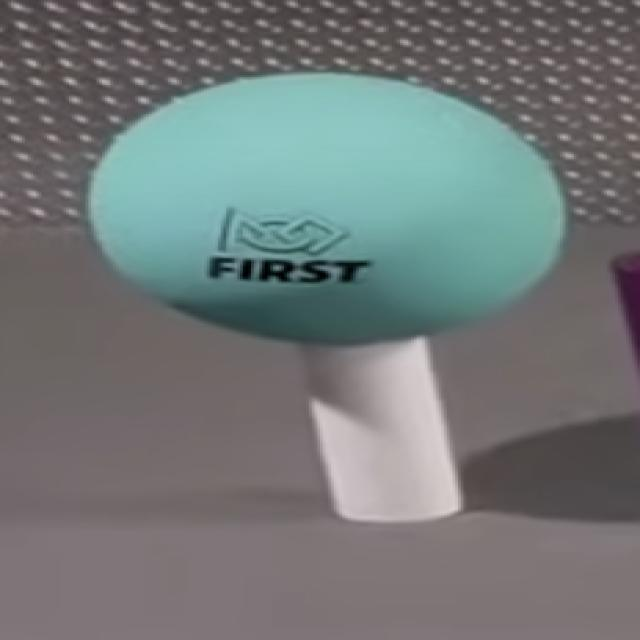Algae: (88, 74, 562, 346)
Coral: (301, 334, 468, 525)
Reef: (610, 252, 640, 378)
